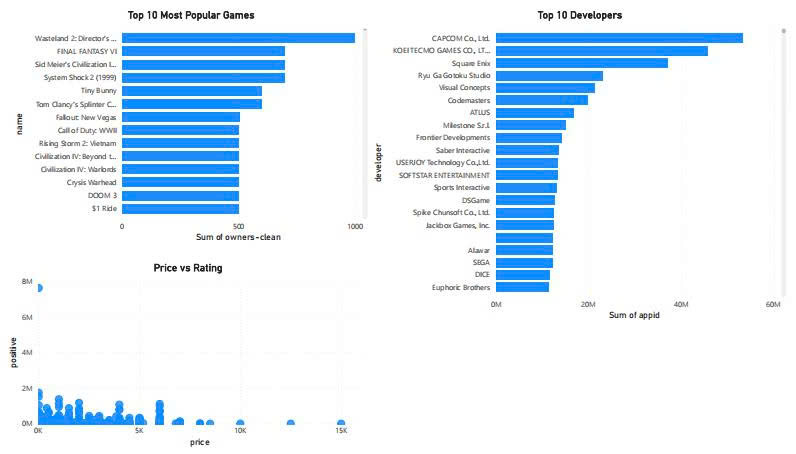

The dashboard page shown, as its layout file describes it:
{"tool":"powerbi","page":{"name":"Page 1","canvas":[1280,720],"ordinal":0},"visuals":[{"type":"clusteredBarChart","title":"Top 10 Most Popular Games","fields":{"Category":["steam_games_dataset.name"],"Y":["Sum(steam_games_dataset.owners-clean)"]},"box":[10.1,0,586.2,386.4],"z":0},{"type":"scatterChart","title":"Price vs Rating","fields":{"Y":["steam_games_dataset.positive"],"X":["steam_games_dataset.price"],"Size":["CountNonNull(steam_games_dataset.ccu)"]},"box":[0,413.2,596.3,307.4],"z":1},{"type":"barChart","title":"Top 10 Developers","fields":{"Category":["steam_games_dataset.developer"],"Y":["Sum(steam_games_dataset.appid)"]},"box":[596.3,0,683.7,514],"z":2}]}

Visuals, with their boxes in screenshot pixels (x1, y1, x2, y2), scaled from the page's 1280x720 canvas onto the 796x454 screenshot:
"Top 10 Most Popular Games" clusteredBarChart: (6, 0, 371, 244)
"Price vs Rating" scatterChart: (0, 261, 371, 453)
"Top 10 Developers" barChart: (371, 0, 795, 324)
